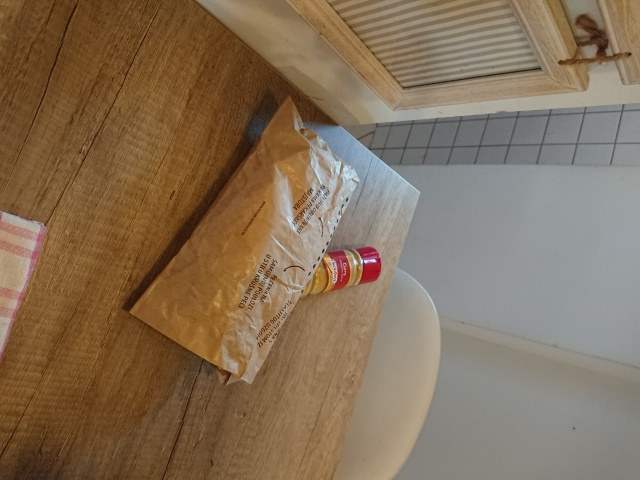Kotanyi Curry Spices Mix 70g: (284, 244, 384, 299)
